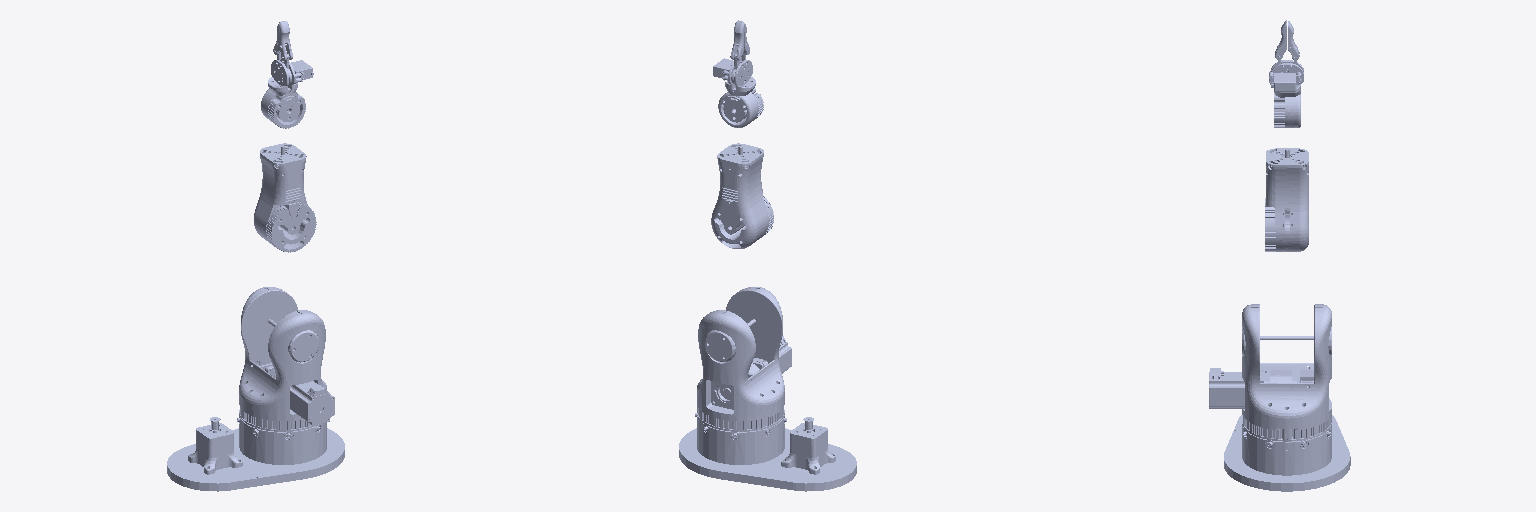
URDF robot description (urdf_v12):
<?xml version="1.0" encoding="utf-8" ?>
<!-- This URDF was automatically created by SolidWorks to URDF Exporter! Originally created by [author] ([email redacted]) 
     Commit Version: 1.6.0-4-g7f85cfe  Build Version: 1.6.7995.38578
     For more information, please see http://wiki.ros.org/sw_urdf_exporter -->
<robot name="urdf_v12">
    <link name="base">
        <inertial>
            <origin xyz="-0.0277896697354432 0.0234076824741036 0.0288009133480316" rpy="0 0 0" />
            <mass value="1.8044550393165" />
            <inertia ixx="0.00557261131338954" ixy="1.30566237539955E-06" ixz="-0.000539475236705643" iyy="0.0133501948742322" iyz="4.50573002158927E-07" izz="0.0165394809245894" />
        </inertial>
        <visual>
            <origin xyz="0 0 0" rpy="0 0 0" />
            <geometry>
                <mesh filename="package://urdf_v12/meshes/base.STL" />
            </geometry>
            <material name="">
                <color rgba="0.792156862745098 0.819607843137255 0.933333333333333 1" />
            </material>
        </visual>
        <collision>
            <origin xyz="0 0 0" rpy="0 0 0" />
            <geometry>
                <mesh filename="package://urdf_v12/meshes/base.STL" />
            </geometry>
        </collision>
    </link>
    <link name="base_link ">
        <inertial>
            <origin xyz="0.0157132867710385 0.0115275527781427 0.181315179513602" rpy="0 0 0" />
            <mass value="2.09089508032489" />
            <inertia ixx="0.0136133861667005" ixy="4.81773432935839E-06" ixz="-8.58975697793193E-06" iyy="0.00966545437205446" iyz="-0.000408881289535838" izz="0.00889732683732312" />
        </inertial>
        <visual>
            <origin xyz="0 0 0" rpy="0 0 0" />
            <geometry>
                <mesh filename="package://urdf_v12/meshes/base_link .STL" />
            </geometry>
            <material name="">
                <color rgba="0.792156862745098 0.819607843137255 0.933333333333333 1" />
            </material>
        </visual>
        <collision>
            <origin xyz="0 0 0" rpy="0 0 0" />
            <geometry>
                <mesh filename="package://urdf_v12/meshes/base_link .STL" />
            </geometry>
        </collision>
    </link>
    <joint name="joint_1" type="continuous">
        <origin xyz="0 0 -0.0180509566114611" rpy="0 0 0" />
        <parent link="base" />
        <child link="base_link " />
        <axis xyz="0 0 1" />
    </joint>
    <link name="shoulder">
        <inertial>
            <origin xyz="0.0158644325462804 0.02504162834465 0.178555302511376" rpy="0 0 0" />
            <mass value="1.93113192422205" />
            <inertia ixx="0.0170862699436261" ixy="3.41462705541798E-06" ixz="-5.32114229637754E-07" iyy="0.0162697572588696" iyz="-0.00012309676700551" izz="0.00359988404935739" />
        </inertial>
        <visual>
            <origin xyz="0 0 0" rpy="0 0 0" />
            <geometry>
                <mesh filename="package://urdf_v12/meshes/shoulder.STL" />
            </geometry>
            <material name="">
                <color rgba="0.792156862745098 0.819607843137255 0.933333333333333 1" />
            </material>
        </visual>
        <collision>
            <origin xyz="0 0 0" rpy="0 0 0" />
            <geometry>
                <mesh filename="package://urdf_v12/meshes/shoulder.STL" />
            </geometry>
        </collision>
    </link>
    <joint name="joint_2" type="continuous">
        <origin xyz="0 0 0.166937311025839" rpy="0 0 0" />
        <parent link="base_link " />
        <child link="shoulder" />
        <axis xyz="0 1 0" />
    </joint>
    <link name="elbow">
        <inertial>
            <origin xyz="0.0156751030974169 0.023194600323863 0.141664728150207" rpy="0 0 0" />
            <mass value="0.777952609087341" />
            <inertia ixx="0.00228138056838172" ixy="6.75259187042004E-08" ixz="-6.02427583403919E-07" iyy="0.0023009303154956" iyz="-3.06257702544412E-05" izz="0.000730694022316298" />
        </inertial>
        <visual>
            <origin xyz="0 0 0" rpy="0 0 0" />
            <geometry>
                <mesh filename="package://urdf_v12/meshes/elbow.STL" />
            </geometry>
            <material name="">
                <color rgba="0.792156862745098 0.819607843137255 0.933333333333333 1" />
            </material>
        </visual>
        <collision>
            <origin xyz="0 0 0" rpy="0 0 0" />
            <geometry>
                <mesh filename="package://urdf_v12/meshes/elbow.STL" />
            </geometry>
        </collision>
    </link>
    <joint name="joint_3" type="continuous">
        <origin xyz="0 0 0.221123792803555" rpy="0 0 0" />
        <parent link="shoulder" />
        <child link="elbow" />
        <axis xyz="0 1 0" />
    </joint>
    <link name="wrist_1">
        <inertial>
            <origin xyz="0.0159030353870169 0.0259392011604309 0.153821387239627" rpy="0 0 0" />
            <mass value="0.336033452724272" />
            <inertia ixx="0.00069858848675879" ixy="-1.06886801076148E-06" ixz="4.79927277955125E-06" iyy="0.00057350924924435" iyz="1.12103478728337E-05" izz="0.000348806449824697" />
        </inertial>
        <visual>
            <origin xyz="0 0 0" rpy="0 0 0" />
            <geometry>
                <mesh filename="package://urdf_v12/meshes/wrist_1.STL" />
            </geometry>
            <material name="">
                <color rgba="0.792156862745098 0.819607843137255 0.933333333333333 1" />
            </material>
        </visual>
        <collision>
            <origin xyz="0 0 0" rpy="0 0 0" />
            <geometry>
                <mesh filename="package://urdf_v12/meshes/wrist_1.STL" />
            </geometry>
        </collision>
    </link>
    <joint name="joint_4" type="continuous">
        <origin xyz="0 0.000500999999999197 0.129539254362447" rpy="0 0 0" />
        <parent link="elbow" />
        <child link="wrist_1" />
        <axis xyz="0 0 1" />
    </joint>
    <link name="wrist_2">
        <inertial>
            <origin xyz="0.0157674794651573 0.0237812416320284 0.102441846080264" rpy="0 0 0" />
            <mass value="0.158623990065244" />
            <inertia ixx="8.93595776003998E-05" ixy="-2.61088693015929E-09" ixz="-6.69993158028924E-08" iyy="0.000106318527143667" iyz="-6.1988188063972E-07" izz="7.50977341794514E-05" />
        </inertial>
        <visual>
            <origin xyz="0 0 0" rpy="0 0 0" />
            <geometry>
                <mesh filename="package://urdf_v12/meshes/wrist_2.STL" />
            </geometry>
            <material name="">
                <color rgba="0.792156862745098 0.819607843137255 0.933333333333333 1" />
            </material>
        </visual>
        <collision>
            <origin xyz="0 0 0" rpy="0 0 0" />
            <geometry>
                <mesh filename="package://urdf_v12/meshes/wrist_2.STL" />
            </geometry>
        </collision>
    </link>
    <joint name="joint_5" type="continuous">
        <origin xyz="0 0 0.0989607456375549" rpy="0 0 0" />
        <parent link="wrist_1" />
        <child link="wrist_2" />
        <axis xyz="0 1 0" />
    </joint>
    <link name="gripper_base">
        <inertial>
            <origin xyz="0.0311543630683594 0.0219859939784245 0.827225396554336" rpy="0 0 0" />
            <mass value="0.0669550622965298" />
            <inertia ixx="2.24885107007778E-05" ixy="2.35779600503439E-06" ixz="-2.87441674031664E-06" iyy="3.18452559005093E-05" iyz="3.5768391759538E-07" izz="3.67649419265546E-05" />
        </inertial>
        <visual>
            <origin xyz="0 0 0" rpy="0 0 0" />
            <geometry>
                <mesh filename="package://urdf_v12/meshes/gripper_base.STL" />
            </geometry>
            <material name="">
                <color rgba="0.792156862745098 0.819607843137255 0.933333333333333 1" />
            </material>
        </visual>
        <collision>
            <origin xyz="0 0 0" rpy="0 0 0" />
            <geometry>
                <mesh filename="package://urdf_v12/meshes/gripper_base.STL" />
            </geometry>
        </collision>
    </link>
    <joint name="joint_6" type="fixed">
        <origin xyz="0 -0.000501000000000529 -0.666561103829396" rpy="0 0 0" />
        <parent link="wrist_2" />
        <child link="gripper_base" />
        <axis xyz="0 0 0" />
    </joint>
    <link name="gear1">
        <inertial>
            <origin xyz="0.00313198682169658 -0.00793428732007617 -0.000937213624747468" rpy="0 0 0" />
            <mass value="0.00438273150212106" />
            <inertia ixx="9.89317514922847E-07" ixy="1.98723010737954E-10" ixz="-7.64271136153673E-10" iyy="1.89001348619673E-07" iyz="4.23805891108935E-08" izz="8.26162900732732E-07" />
        </inertial>
        <visual>
            <origin xyz="0 0 0" rpy="0 0 0" />
            <geometry>
                <mesh filename="package://urdf_v12/meshes/gear1.STL" />
            </geometry>
            <material name="">
                <color rgba="0.792156862745098 0.819607843137255 0.933333333333333 1" />
            </material>
        </visual>
        <collision>
            <origin xyz="0 0 0" rpy="0 0 0" />
            <geometry>
                <mesh filename="package://urdf_v12/meshes/gear1.STL" />
            </geometry>
        </collision>
    </link>
    <joint name="joint_7" type="continuous">
        <origin xyz="0.012918 0.0098964 0.83019" rpy="-1.557 0.0046185 0.0046825" />
        <parent link="gripper_base" />
        <child link="gear1" />
        <axis xyz="0.99999 0 -0.0046829" />
    </joint>
    <link name="leg1-1">
        <inertial>
            <origin xyz="0.00929593828673914 -0.000672396815212528 0.0475923899361654" rpy="0 0 0" />
            <mass value="0.0106754375171176" />
            <inertia ixx="4.10221567194114E-06" ixy="-1.70838921651009E-09" ixz="-9.73748421490424E-09" iyy="4.17675309849148E-06" iyz="-6.39771162927071E-07" izz="5.77183539710656E-07" />
        </inertial>
        <visual>
            <origin xyz="0 0 0" rpy="0 0 0" />
            <geometry>
                <mesh filename="package://urdf_v12/meshes/leg1-1.STL" />
            </geometry>
            <material name="">
                <color rgba="0.792156862745098 0.819607843137255 0.933333333333333 1" />
            </material>
        </visual>
        <collision>
            <origin xyz="0 0 0" rpy="0 0 0" />
            <geometry>
                <mesh filename="package://urdf_v12/meshes/leg1-1.STL" />
            </geometry>
        </collision>
    </link>
    <joint name="joint_11" type="fixed">
        <origin xyz="-0.0058669 -0.019902 0.0073019" rpy="1.557 0.0046185 -0.0046825" />
        <parent link="gear1" />
        <child link="leg1-1" />
        <axis xyz="0 0 0" />
    </joint>
    <link name="gear2">
        <inertial>
            <origin xyz="-0.00318902659387393 -0.00793428571902788 -0.000907612629209242" rpy="0 0 0" />
            <mass value="0.0043827315012652" />
            <inertia ixx="9.89317512179051E-07" ixy="1.98725634078648E-10" ixz="-7.64271668328125E-10" iyy="1.89001348302896E-07" iyz="4.23805870596426E-08" izz="8.26162898343221E-07" />
        </inertial>
        <visual>
            <origin xyz="0 0 0" rpy="0 0 0" />
            <geometry>
                <mesh filename="package://urdf_v12/meshes/gear2.STL" />
            </geometry>
            <material name="">
                <color rgba="0.792156862745098 0.819607843137255 0.933333333333333 1" />
            </material>
        </visual>
        <collision>
            <origin xyz="0 0 0" rpy="0 0 0" />
            <geometry>
                <mesh filename="package://urdf_v12/meshes/gear2.STL" />
            </geometry>
        </collision>
    </link>
    <joint name="joint_8" type="continuous">
        <origin xyz="0.012869 0.037896 0.83019" rpy="-1.5571 -0.0047473 -3.1369" />
        <parent link="gripper_base" />
        <child link="gear2" />
        <axis xyz="0.99999 0 -0.0046829" />
        <mimic joint="joint_7" multiplier="1" offset="0" />
    </joint>
    <link name="leg2-1">
        <inertial>
            <origin xyz="-9.8491060829542E-05 -0.0497032246791672 0.76462583489705" rpy="0 0 0" />
            <mass value="0.0106754461770065" />
            <inertia ixx="4.10221667015741E-06" ixy="-1.70826774117383E-09" ixz="-9.73784470875661E-09" iyy="4.17675215864E-06" iyz="-6.39775026489047E-07" izz="5.77185107952822E-07" />
        </inertial>
        <visual>
            <origin xyz="0 0 0" rpy="0 0 0" />
            <geometry>
                <mesh filename="package://urdf_v12/meshes/leg2-1.STL" />
            </geometry>
            <material name="">
                <color rgba="0.792156862745098 0.819607843137255 0.933333333333333 1" />
            </material>
        </visual>
        <collision>
            <origin xyz="0 0 0" rpy="0 0 0" />
            <geometry>
                <mesh filename="package://urdf_v12/meshes/leg2-1.STL" />
            </geometry>
        </collision>
    </link>
    <joint name="joint_12" type="fixed">
        <origin xyz="0.00074747 0.69769 0.046439" rpy="1.557 0.0046185 -0.0046825" />
        <parent link="gear2" />
        <child link="leg2-1" />
        <axis xyz="0 0 0" />
    </joint>
    <transmission name="trans_joint_1">
        <type>transmission_interface/SimpleTransmission</type>
        <joint name="joint_1">
            <hardwareInterface>hardware_interface/EffortJointInterface</hardwareInterface>
        </joint>
        <actuator name="joint_1_motor">
            <hardwareInterface>hardware_interface/EffortJointInterface</hardwareInterface>
            <mechanicalReduction>1</mechanicalReduction>
        </actuator>
    </transmission>
    <transmission name="trans_joint_2">
        <type>transmission_interface/SimpleTransmission</type>
        <joint name="joint_2">
            <hardwareInterface>hardware_interface/EffortJointInterface</hardwareInterface>
        </joint>
        <actuator name="joint_2_motor">
            <hardwareInterface>hardware_interface/EffortJointInterface</hardwareInterface>
            <mechanicalReduction>1</mechanicalReduction>
        </actuator>
    </transmission>
    <transmission name="trans_joint_3">
        <type>transmission_interface/SimpleTransmission</type>
        <joint name="joint_3">
            <hardwareInterface>hardware_interface/EffortJointInterface</hardwareInterface>
        </joint>
        <actuator name="joint_3_motor">
            <hardwareInterface>hardware_interface/EffortJointInterface</hardwareInterface>
            <mechanicalReduction>1</mechanicalReduction>
        </actuator>
    </transmission>
    <transmission name="trans_joint_4">
        <type>transmission_interface/SimpleTransmission</type>
        <joint name="joint_4">
            <hardwareInterface>hardware_interface/EffortJointInterface</hardwareInterface>
        </joint>
        <actuator name="joint_4_motor">
            <hardwareInterface>hardware_interface/EffortJointInterface</hardwareInterface>
            <mechanicalReduction>1</mechanicalReduction>
        </actuator>
    </transmission>
    <transmission name="trans_joint_5">
        <type>transmission_interface/SimpleTransmission</type>
        <joint name="joint_5">
            <hardwareInterface>hardware_interface/EffortJointInterface</hardwareInterface>
        </joint>
        <actuator name="joint_5_motor">
            <hardwareInterface>hardware_interface/EffortJointInterface</hardwareInterface>
            <mechanicalReduction>1</mechanicalReduction>
        </actuator>
    </transmission>
    <transmission name="trans_joint_7">
        <type>transmission_interface/SimpleTransmission</type>
        <joint name="joint_7">
            <hardwareInterface>hardware_interface/EffortJointInterface</hardwareInterface>
        </joint>
        <actuator name="joint_7_motor">
            <hardwareInterface>hardware_interface/EffortJointInterface</hardwareInterface>
            <mechanicalReduction>1</mechanicalReduction>
        </actuator>
    </transmission>
    <transmission name="trans_joint_8">
        <type>transmission_interface/SimpleTransmission</type>
        <joint name="joint_8">
            <hardwareInterface>hardware_interface/EffortJointInterface</hardwareInterface>
        </joint>
        <actuator name="joint_8_motor">
            <hardwareInterface>hardware_interface/EffortJointInterface</hardwareInterface>
            <mechanicalReduction>1</mechanicalReduction>
        </actuator>
    </transmission>
    <gazebo>
        <plugin name="gazebo_ros_control">
            <robotNamespace>/</robotNamespace>
        </plugin>
    </gazebo>
</robot>

--- Facts derived from the render (not from the file) ---
The picture shows the robot from 3 angles, left to right: view 1: azimuth 30°, elevation 25°; view 2: azimuth 150°, elevation 25°; view 3: azimuth 270°, elevation 25°; orthographic projection.
Model urdf_v12 with 11 links and 10 joints (7 continuous, 3 fixed), rooted at base, posed every joint at zero.
Links seen in each view (by area): view 1: base_link, base, elbow, wrist_2, gripper_base; view 2: base_link, base, elbow, wrist_2, gripper_base; view 3: base_link, base, elbow, gripper_base, wrist_2.
Boxes of the visible links, x1,y1,x2,y2 form: base_link: (239, 287, 334, 431); base: (167, 415, 344, 491); elbow: (254, 143, 316, 252); wrist_2: (261, 86, 305, 128); gripper_base: (268, 58, 313, 91); base_link: (697, 287, 791, 431); base: (679, 413, 856, 491); elbow: (711, 143, 773, 248); wrist_2: (718, 87, 763, 127); gripper_base: (713, 58, 755, 91); base_link: (1209, 304, 1331, 441); base: (1224, 415, 1350, 491); elbow: (1265, 148, 1308, 251); gripper_base: (1269, 60, 1303, 92); wrist_2: (1274, 91, 1300, 127).
Bounding box of the posed robot: 0.3415 × 0.2501 × 0.8667 m (x, y, z).
Meshes: 11 distinct files referenced, 9 mesh visuals loaded (9 binary STL); not drawn: 2 (reference not matched to a file when rendering).